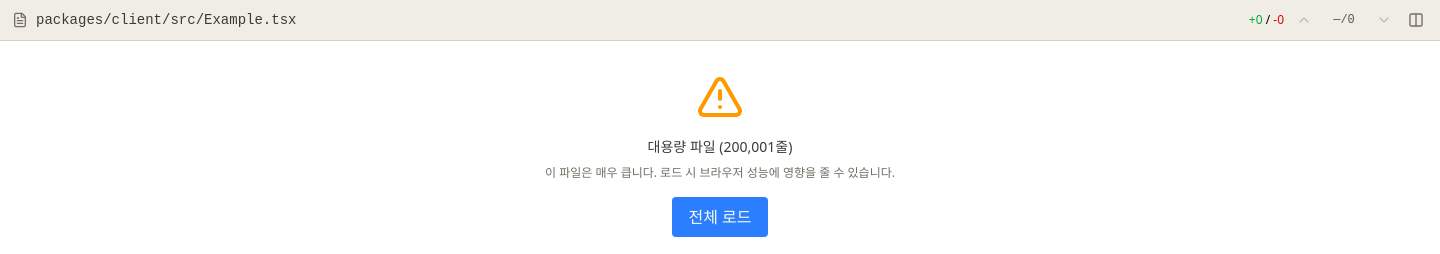
Test: DiffViewer Performance (Story 6.6) › loads MergeView after clicking "전체 로드" button
Click the button with aria-label "대용량 파일 Diff 전체 로드" at (720, 217), box [672,197,768,237]
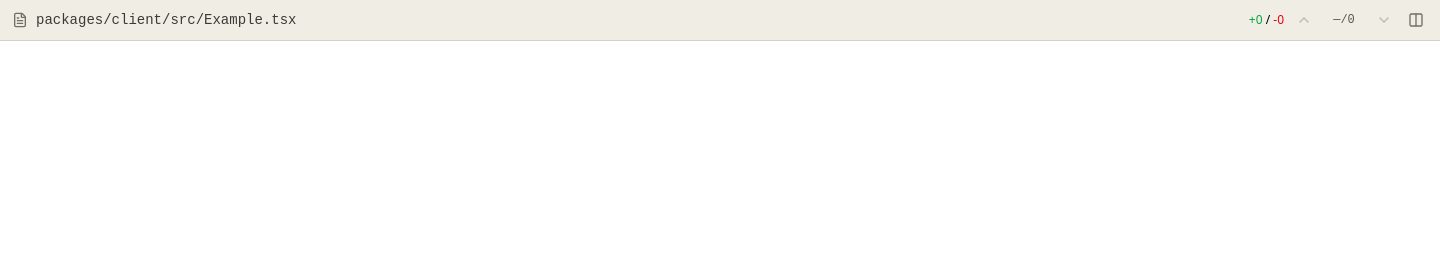
Expected: the text "대용량 파일" is gone
